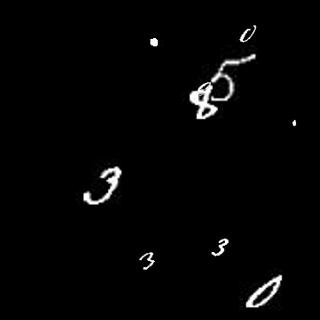dot: (146, 29, 161, 50), (286, 112, 299, 128)
eight: (189, 88, 214, 122)
five: (211, 54, 259, 103)
three: (77, 164, 128, 208), (212, 233, 234, 256), (135, 251, 155, 270)
zero: (244, 273, 286, 309), (239, 23, 263, 44)
